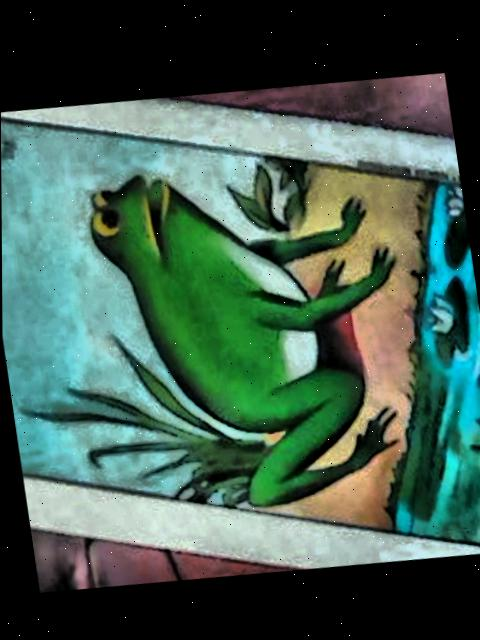La Rana: (1, 118, 480, 538)
